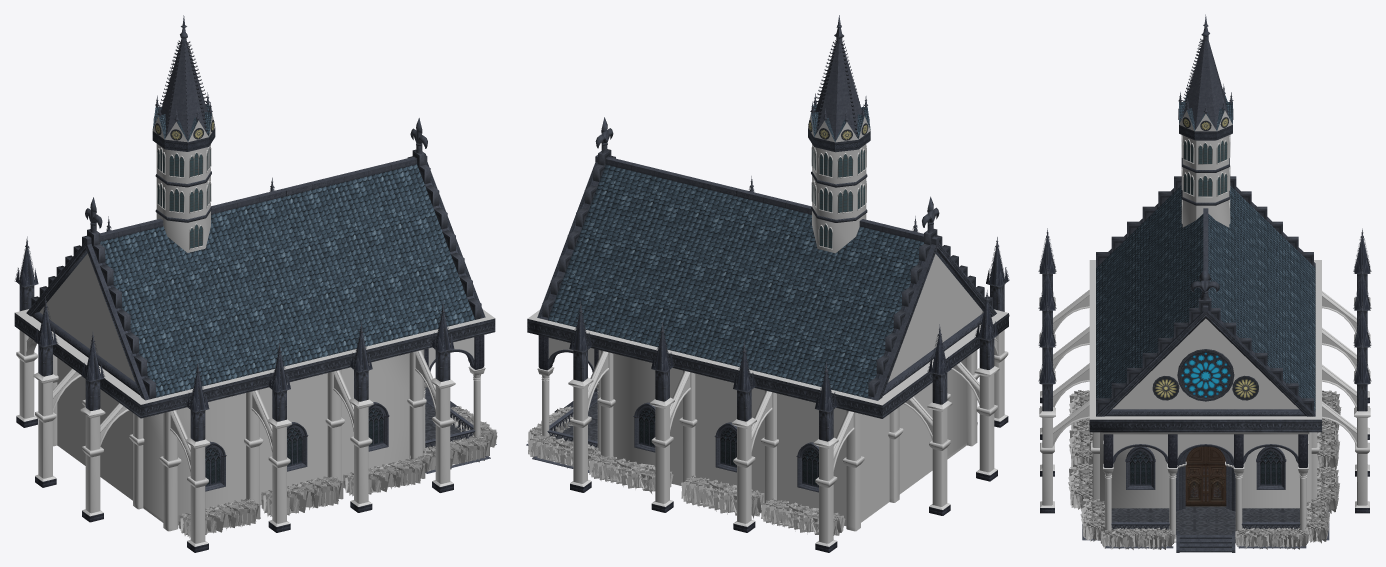
Rendered from myroom.dae.
3 renders of one model, left to right at view 1: azimuth 30°, elevation 25°; view 2: azimuth 150°, elevation 25°; view 3: azimuth 270°, elevation 25°, orthographic. The views are drawn at different scales.
Visible parts, largest first — view 1: set_myroom-geom-P7, set_myroom-geom-P11, set_myroom-geom-P9, set_myroom-geom-P8, set_myroom-geom-P12, set_myroom-geom-P3, set_green-geom-P0, set_myroom-geom-P6, set_myroom-geom-P1, set_green-geom-P1, set_myroom-geom-P5, set_myroom-geom-P10 (+6 smaller); view 2: set_myroom-geom-P7, set_myroom-geom-P11, set_myroom-geom-P9, set_myroom-geom-P8, set_myroom-geom-P12, set_myroom-geom-P3, set_green-geom-P0, set_myroom-geom-P6, set_myroom-geom-P1, set_myroom-geom-P5, set_green-geom-P1, set_myroom-geom-P10 (+6 smaller); view 3: set_myroom-geom-P7, set_myroom-geom-P9, set_green-geom-P0, set_myroom-geom-P8, set_myroom-geom-P11, set_myroom-geom-P3, set_myroom-geom-P12, set_myroom-geom-P6, set_myroom-geom-P0, set_myroom-geom-P17, set_green-geom-P1, set_myroom-geom-P10 (+10 smaller).
Boxes of the visible parts, <box> form: set_myroom-geom-P7: <box>100,103,475,397</box>; set_myroom-geom-P11: <box>53,349,424,531</box>; set_myroom-geom-P9: <box>19,113,474,543</box>; set_myroom-geom-P8: <box>14,171,495,418</box>; set_myroom-geom-P12: <box>15,177,454,441</box>; set_myroom-geom-P3: <box>84,15,474,491</box>; set_green-geom-P0: <box>178,406,497,538</box>; set_myroom-geom-P6: <box>31,118,481,399</box>; set_myroom-geom-P1: <box>16,351,455,546</box>; set_green-geom-P1: <box>178,408,496,536</box>; set_myroom-geom-P5: <box>32,162,485,400</box>; set_myroom-geom-P10: <box>15,309,494,404</box>; set_myroom-geom-P7: <box>548,104,923,398</box>; set_myroom-geom-P11: <box>598,350,977,531</box>; set_myroom-geom-P9: <box>548,114,1004,543</box>; set_myroom-geom-P8: <box>527,171,1008,418</box>; set_myroom-geom-P12: <box>569,176,1008,441</box>; set_myroom-geom-P3: <box>548,15,938,492</box>; set_green-geom-P0: <box>527,406,977,535</box>; set_myroom-geom-P6: <box>542,117,992,397</box>; set_myroom-geom-P1: <box>568,314,1009,546</box>; set_myroom-geom-P5: <box>537,162,984,400</box>; set_green-geom-P1: <box>529,406,843,535</box>; set_myroom-geom-P10: <box>527,309,1008,405</box>; set_myroom-geom-P7: <box>1096,95,1315,411</box>; set_myroom-geom-P9: <box>1042,110,1367,505</box>; set_green-geom-P0: <box>1068,390,1341,549</box>; set_myroom-geom-P8: <box>1089,158,1321,552</box>; set_myroom-geom-P11: <box>1092,432,1317,508</box>; set_myroom-geom-P3: <box>1113,14,1298,510</box>; set_myroom-geom-P12: <box>1040,228,1369,411</box>; set_myroom-geom-P6: <box>1096,176,1313,414</box>; set_myroom-geom-P0: <box>1111,506,1299,534</box>; set_myroom-geom-P17: <box>1152,108,1258,401</box>; set_green-geom-P1: <box>1068,390,1339,549</box>; set_myroom-geom-P10: <box>1089,260,1321,419</box>.
Size of the model in its own units: 24.24 by 26.85 by 19.15.
